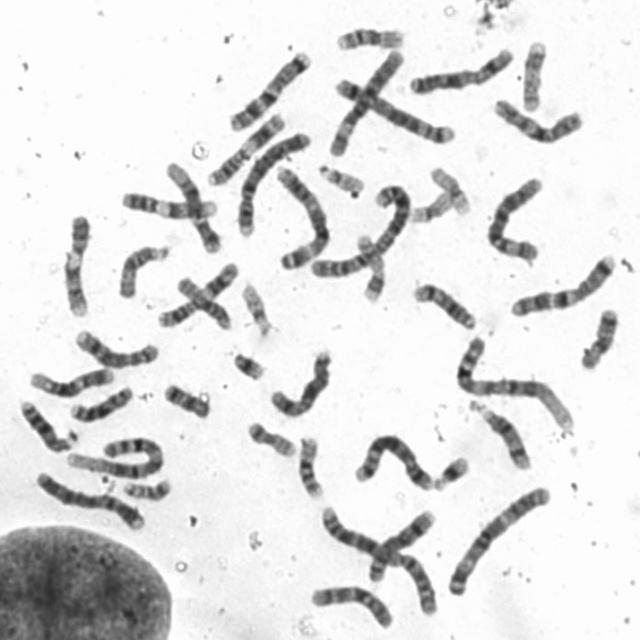A1: (449, 328, 577, 433), (60, 429, 166, 480)
A2: (314, 499, 442, 618), (304, 175, 416, 280)
A3: (439, 478, 555, 598), (269, 159, 332, 272)
B4: (230, 121, 315, 239), (29, 463, 147, 533)
B5: (328, 69, 457, 146), (347, 426, 436, 492)
C10: (486, 90, 586, 147), (304, 576, 397, 630)
C11: (201, 105, 288, 187), (152, 255, 241, 329)
C12: (160, 154, 225, 254), (22, 359, 116, 399)
C6: (321, 40, 409, 158), (479, 168, 546, 264)
C7: (503, 246, 618, 319), (221, 43, 314, 133)
C8: (362, 502, 438, 584), (68, 322, 161, 369)
C9: (57, 206, 94, 320), (113, 183, 220, 220)
D13: (13, 391, 78, 454), (64, 378, 135, 424)
D14: (464, 393, 534, 472), (406, 274, 479, 332)
D15: (171, 269, 235, 332), (111, 236, 172, 300)
E16: (329, 18, 407, 52), (290, 428, 326, 500)
E17: (350, 226, 389, 304), (516, 33, 550, 113)
E18: (573, 300, 621, 372), (157, 374, 213, 420)
F19: (423, 158, 474, 217), (406, 185, 456, 225)
F20: (240, 413, 299, 458), (116, 471, 174, 502)
G21: (427, 447, 472, 492), (226, 343, 269, 382)
G22: (234, 274, 274, 338), (311, 156, 367, 198)
X: (402, 40, 516, 96), (263, 342, 335, 419)
